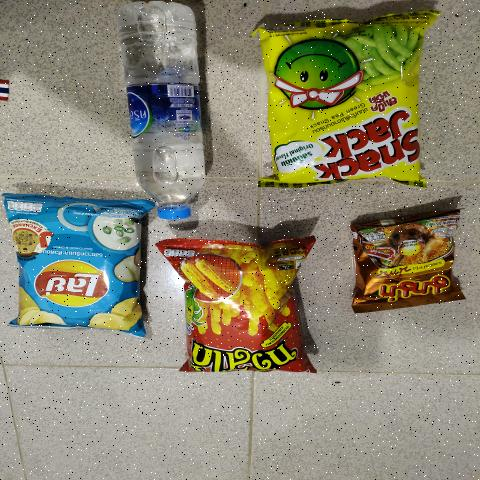crystal: (115, 8, 214, 222)
lay_blue: (32, 208, 132, 321)
mama: (352, 223, 449, 299)
snack_jack: (258, 25, 422, 177)
twisco: (170, 247, 298, 383)
